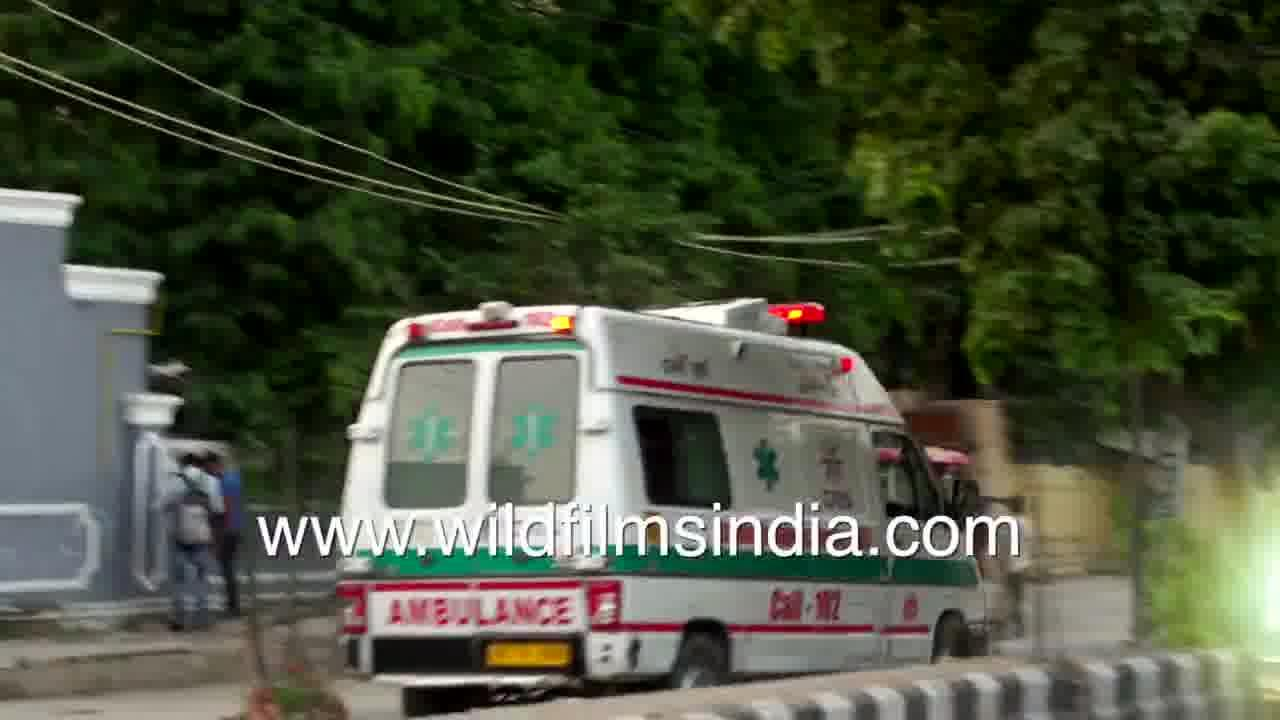AMBULANCE: (319, 287, 1071, 715)
